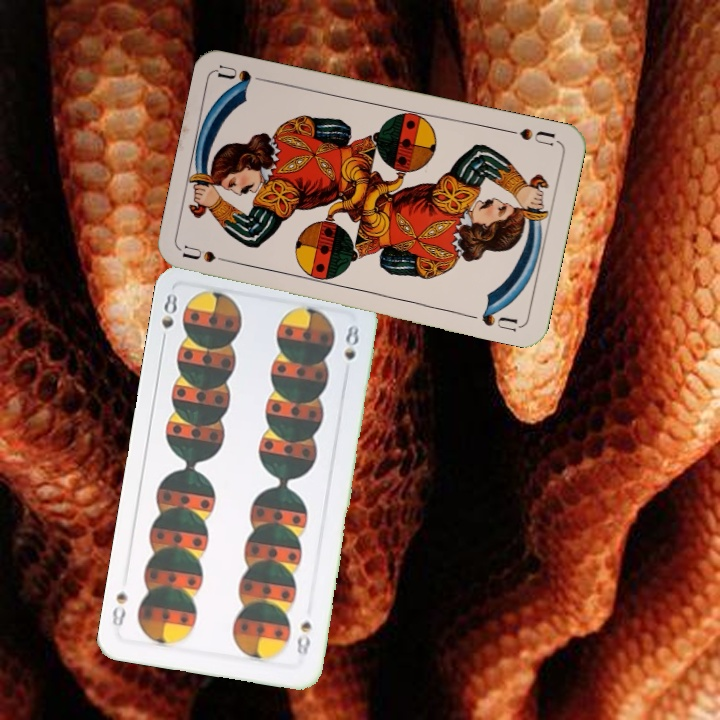S8: (157, 289, 183, 348), (292, 617, 314, 661)
SU: (179, 240, 239, 267), (502, 124, 561, 149)
